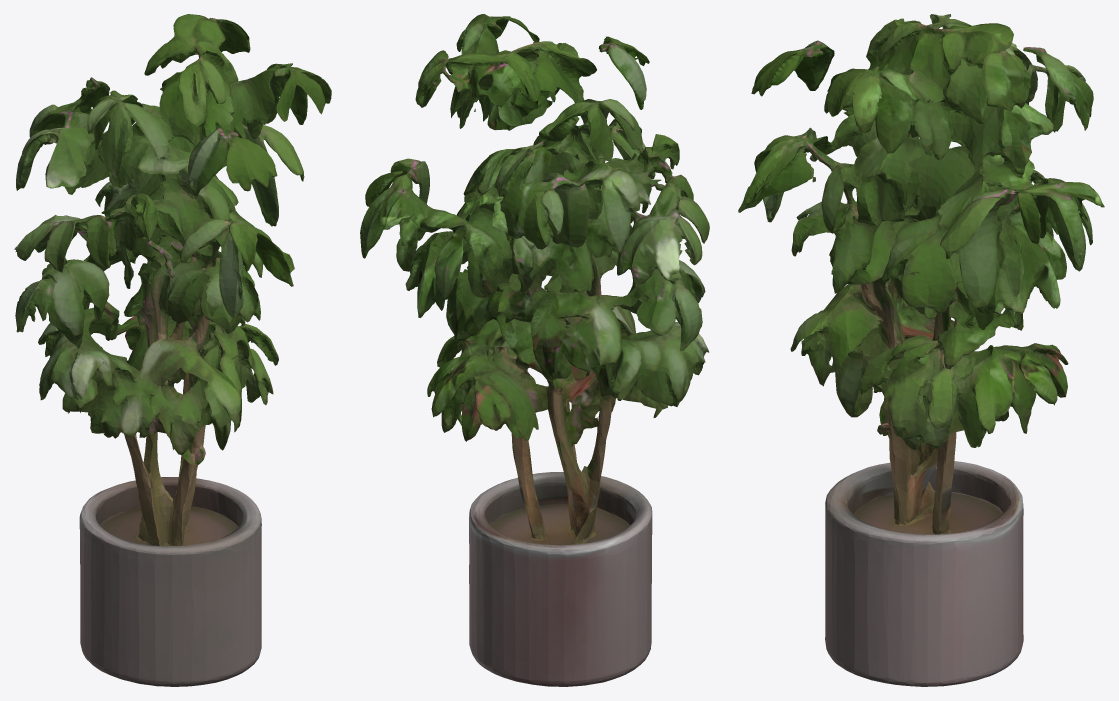
File: potted_plant.glb
3 views of the same model, side by side, from view 1: azimuth 30°, elevation 25°; view 2: azimuth 150°, elevation 25°; view 3: azimuth 270°, elevation 25° (orthographic). The views are drawn at different scales.
Parts seen in each view (by area): view 1: geometry_0; view 2: geometry_0; view 3: geometry_0.
Part boxes in pixels (x1=…): geometry_0: x1=14, y1=14, x2=331, y2=686; geometry_0: x1=360, y1=14, x2=709, y2=686; geometry_0: x1=738, y1=14, x2=1104, y2=686.
Bounding box in the file's own units: 0.5117 × 0.9999 × 0.5145.
Materials: 1 (1 with a texture image).
